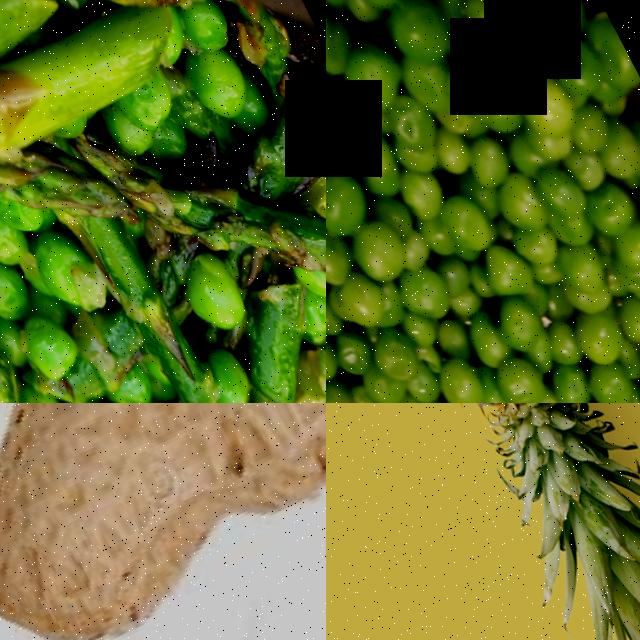peanuts: (0, 403, 326, 640)
peas: (326, 0, 640, 403), (0, 185, 116, 384)
pineapple: (341, 403, 640, 533)
